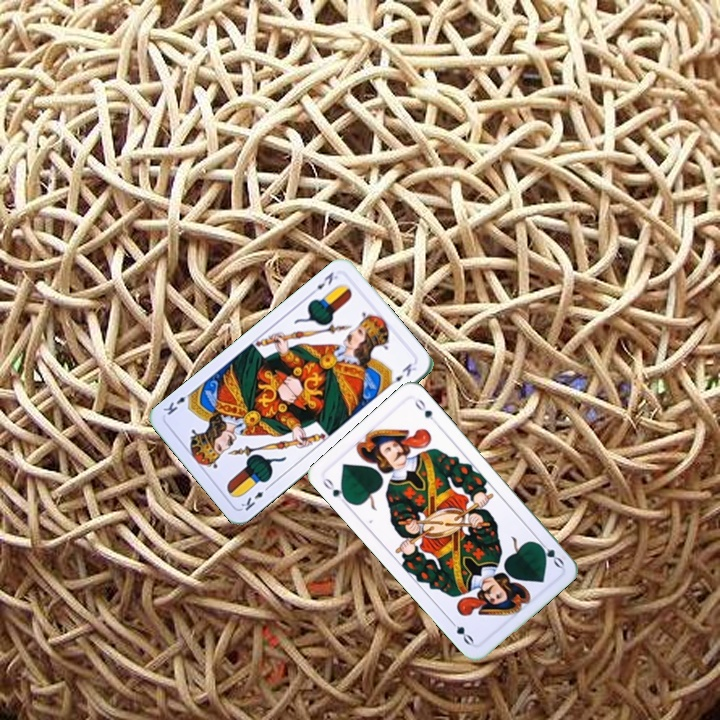EK: (237, 481, 272, 513), (306, 268, 341, 298)
GO: (532, 536, 567, 570), (318, 474, 352, 507)
